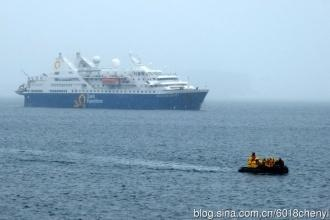otherboat: (238, 151, 290, 173)
youlun: (15, 47, 210, 111)
